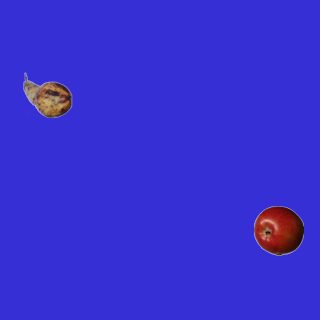Apple Braeburn: (253, 205, 303, 255)
Pear Abate: (22, 70, 72, 120)
